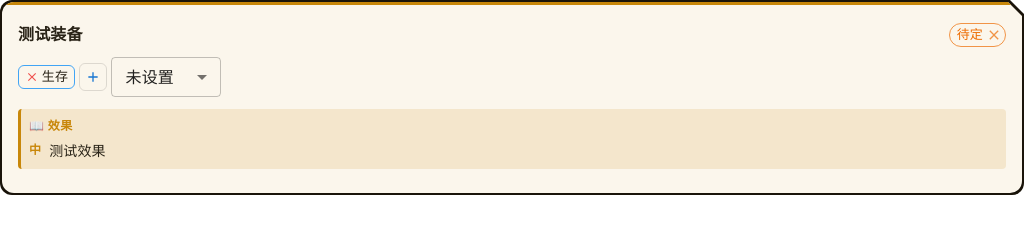
Scenario: D. 来源 Select 读动态池 + 单选写入 › 默认池为「局内附加 / 成就解锁」
The image size is (1024, 251).
Press the mouse on the dropdown labelled "未设置" at (150, 77), box left=126, top=68, right=174, bottom=86
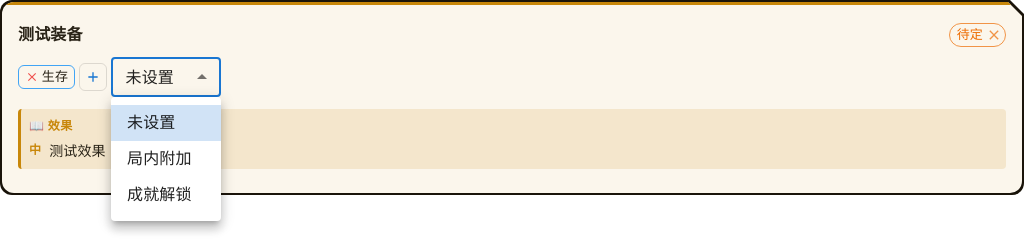
Result: the option "局内附加" is shown at left=127, top=149, right=192, bottom=168
Result: the option "成就解锁" is shown at left=127, top=185, right=192, bottom=204
